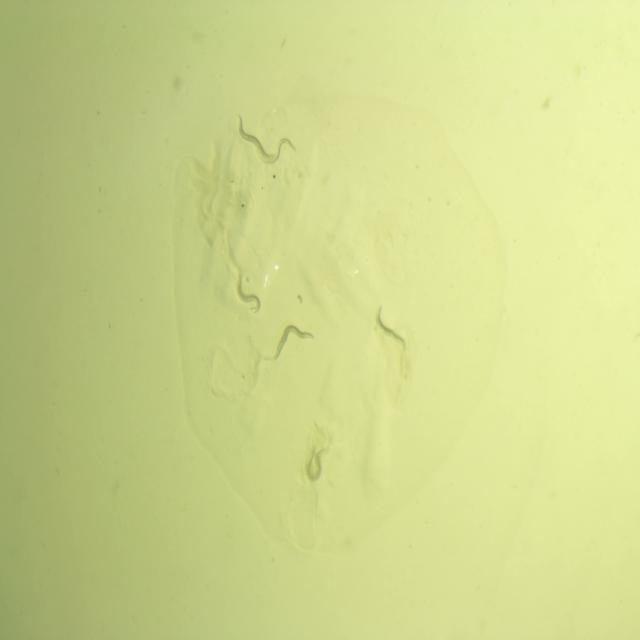worm: (365, 300, 410, 359), (262, 318, 314, 368), (234, 114, 282, 162), (252, 131, 300, 169), (233, 267, 266, 322), (302, 429, 328, 488)
